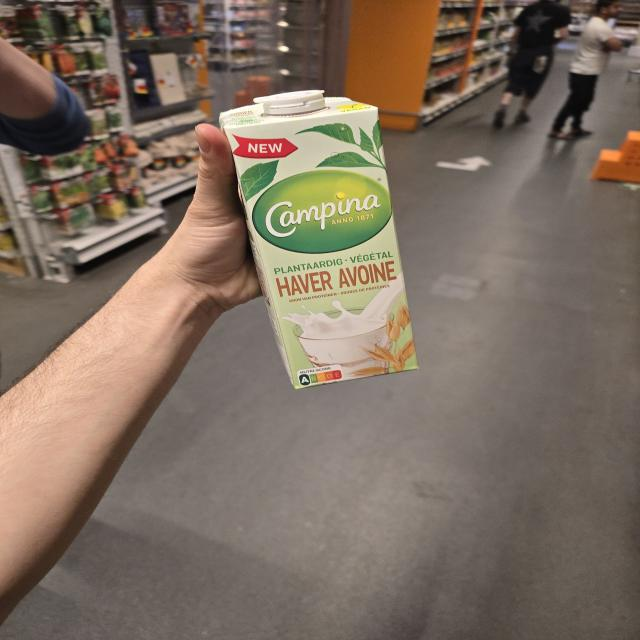Milk: (221, 93, 420, 390)
